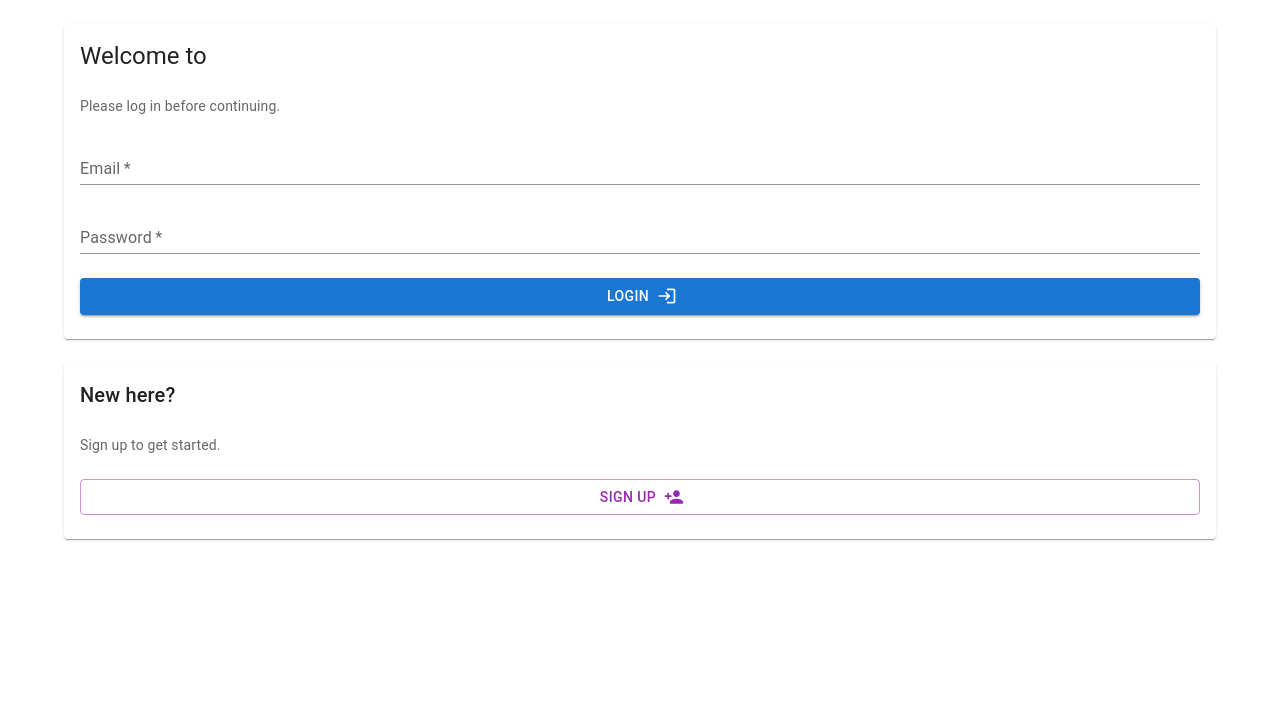
Test case: LoginPage › form field password gets validated on the backend
Type "email.address@is.existent" into the field labelled "Email *" at (640, 170), box [80,156,1200,185]
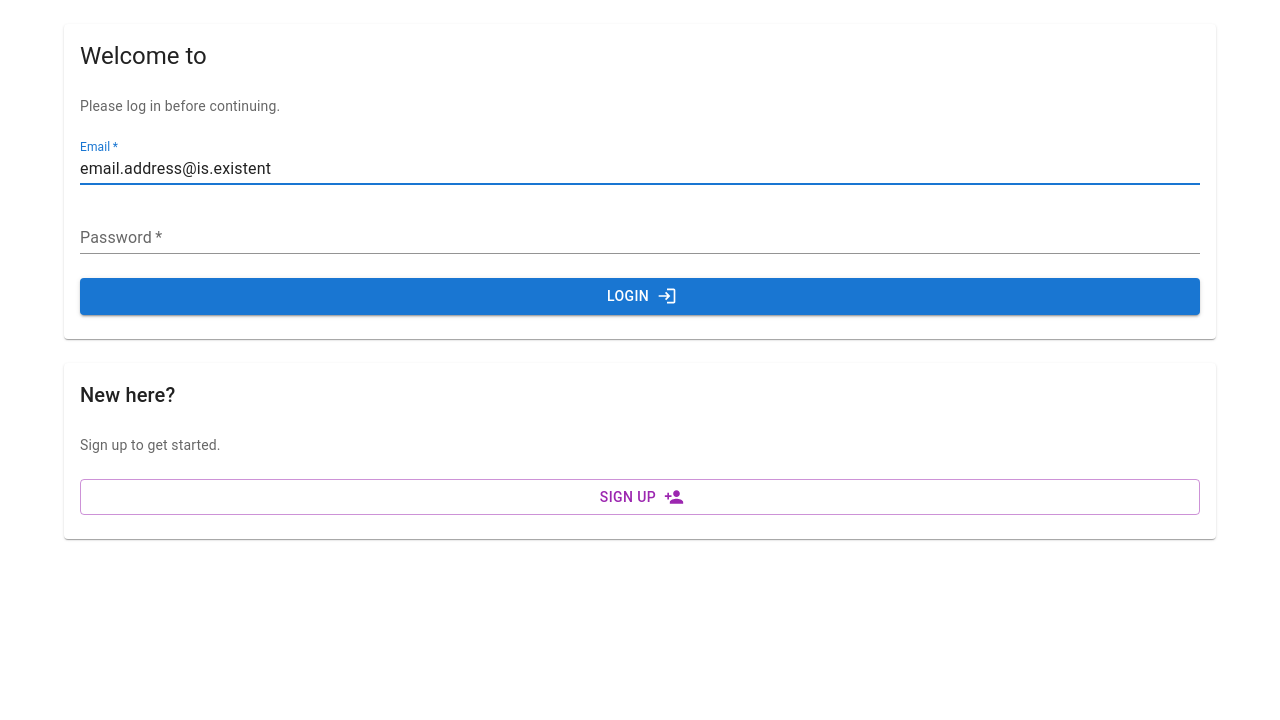
Type "password-is-incorrect" into the password field labelled "Password *" at (640, 240), box [80,225,1200,254]
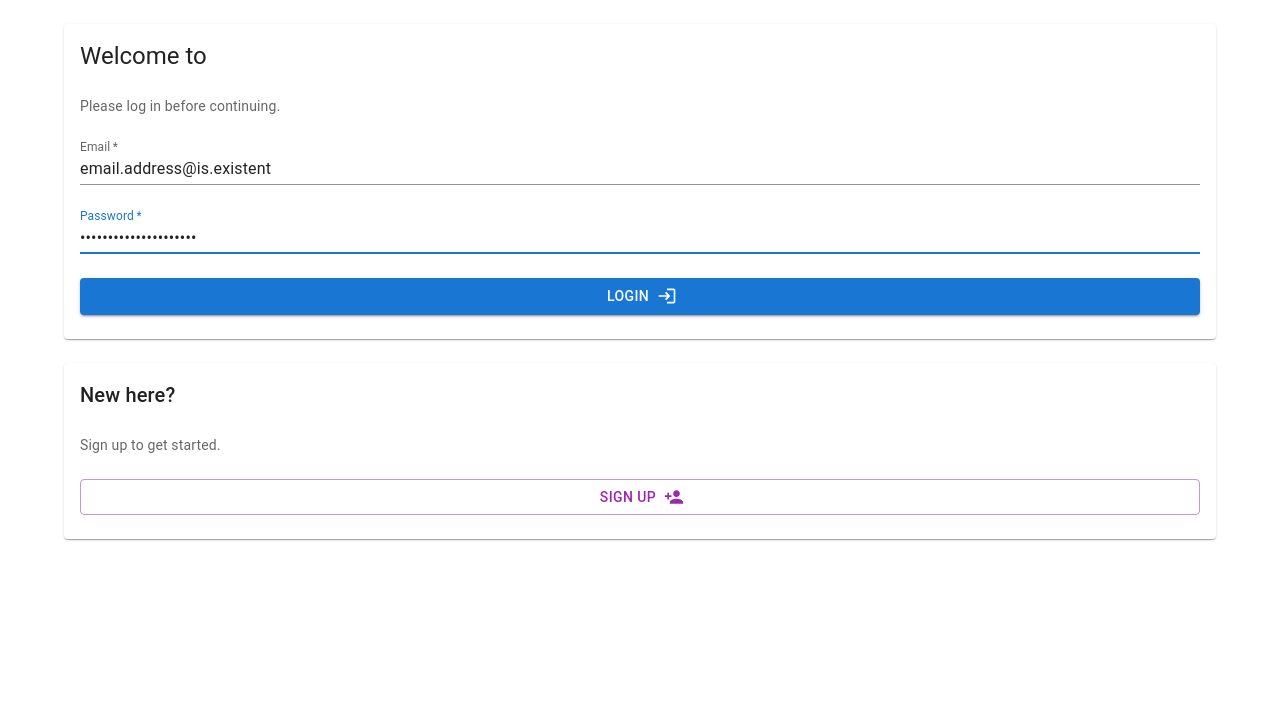
Click the button "Login" at (640, 296), box [80,278,1200,314]
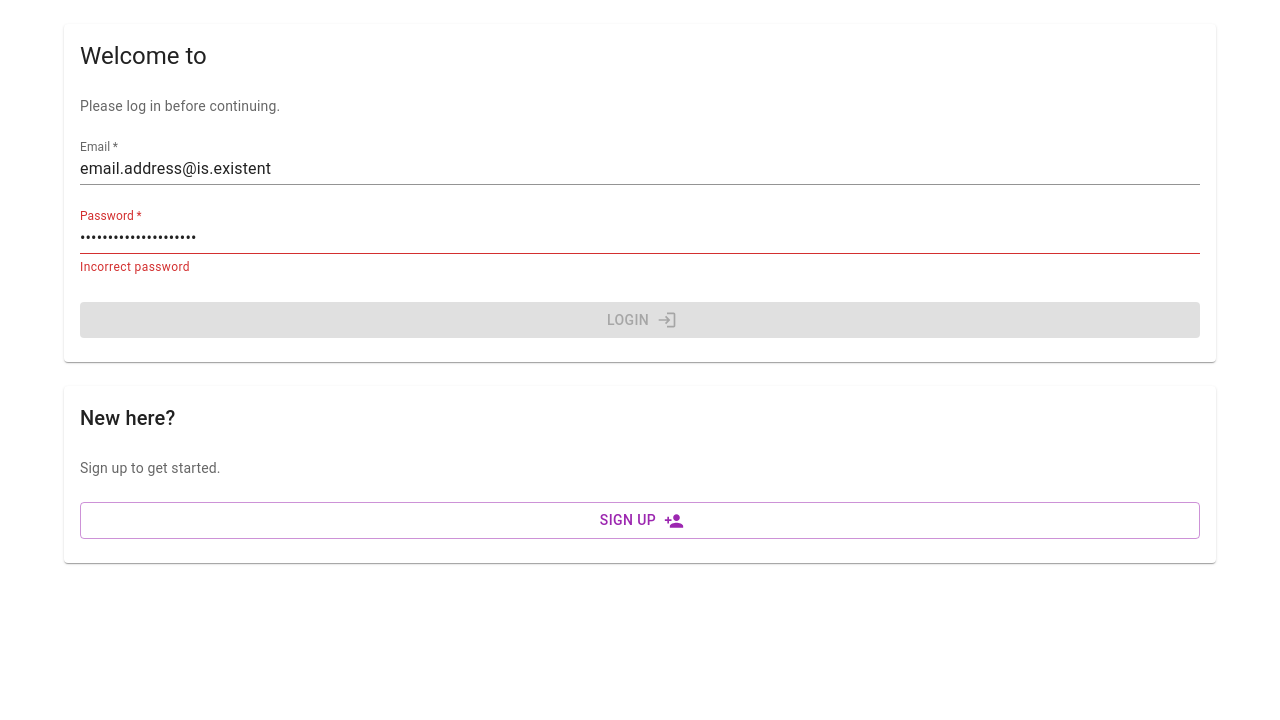
Result: the text "Incorrect password" is shown at [80,260,190,274]
Result: the button "Login" is disabled at [80,302,1200,338]
